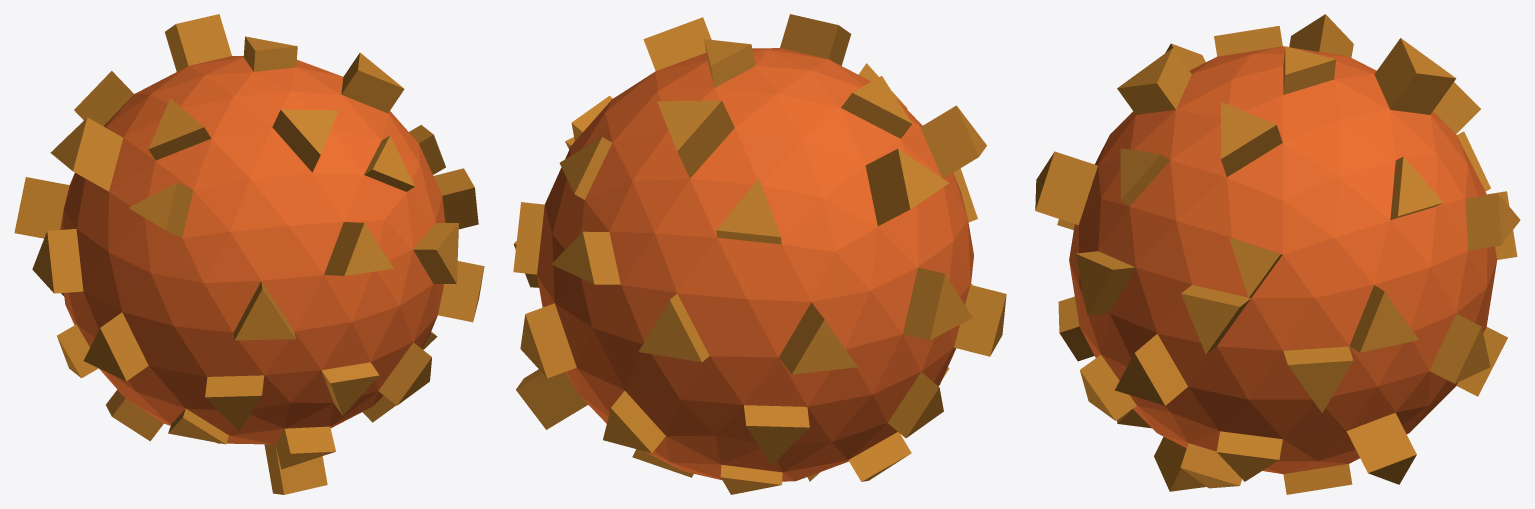
The model's file is SunPol.fbx.
3 views of the same model, side by side, from view 1: azimuth 30°, elevation 25°; view 2: azimuth 150°, elevation 25°; view 3: azimuth 270°, elevation 25° (orthographic). The views are drawn at different scales.
Parts seen in each view (by area): view 1: Icosphere.001, Icosphere; view 2: Icosphere.001, Icosphere; view 3: Icosphere.001, Icosphere.
Boxes of the visible parts, bbox=[...] form: Icosphere.001: bbox=[60, 56, 445, 444]; Icosphere: bbox=[14, 14, 484, 494]; Icosphere.001: bbox=[537, 48, 973, 481]; Icosphere: bbox=[513, 14, 1006, 494]; Icosphere.001: bbox=[1069, 46, 1497, 474]; Icosphere: bbox=[1035, 14, 1520, 494].
Size of the model in its own units: 691 by 700 by 685.
